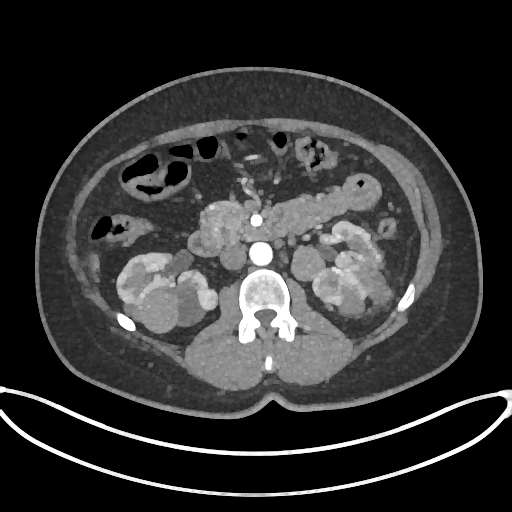Lesion: (194, 287, 218, 315)
